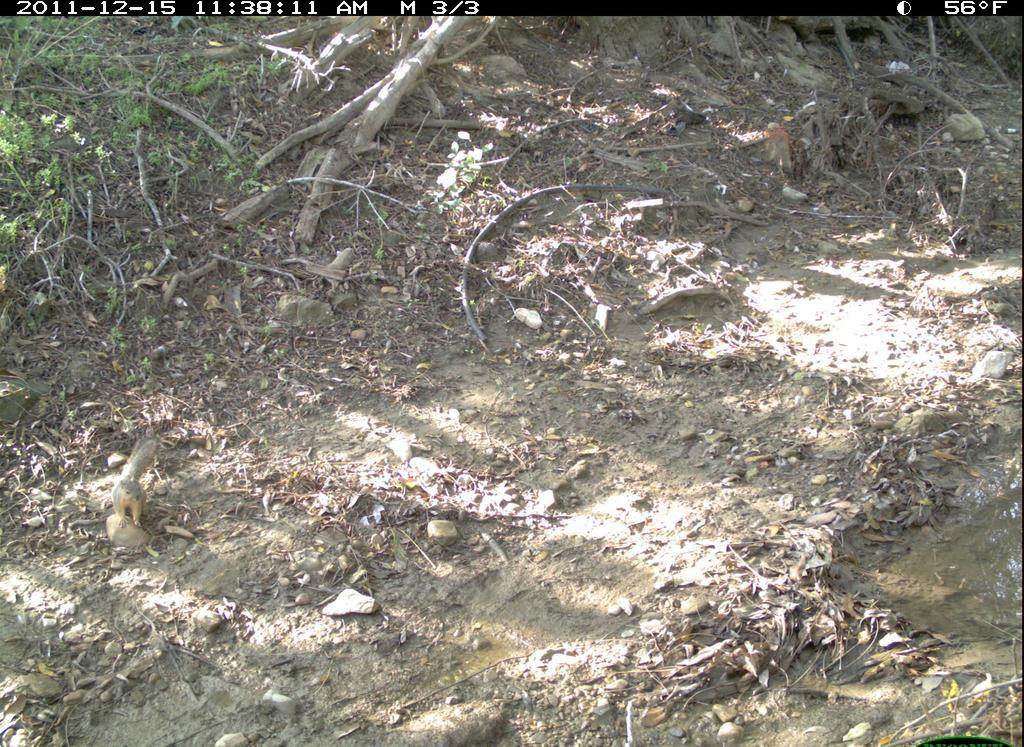squirrel: (107, 431, 164, 532)
